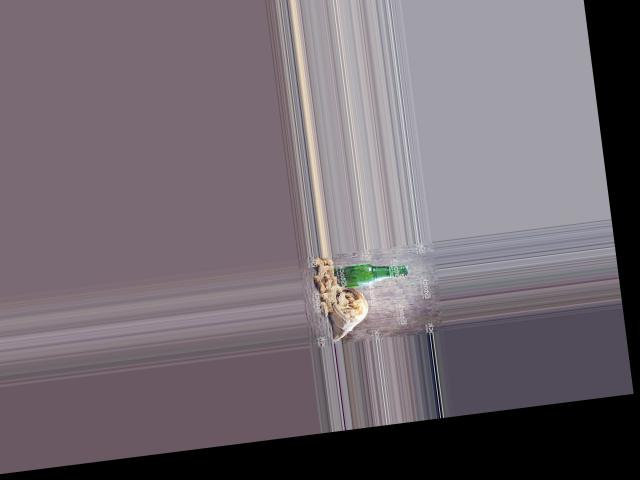beer: (328, 258, 410, 290)
